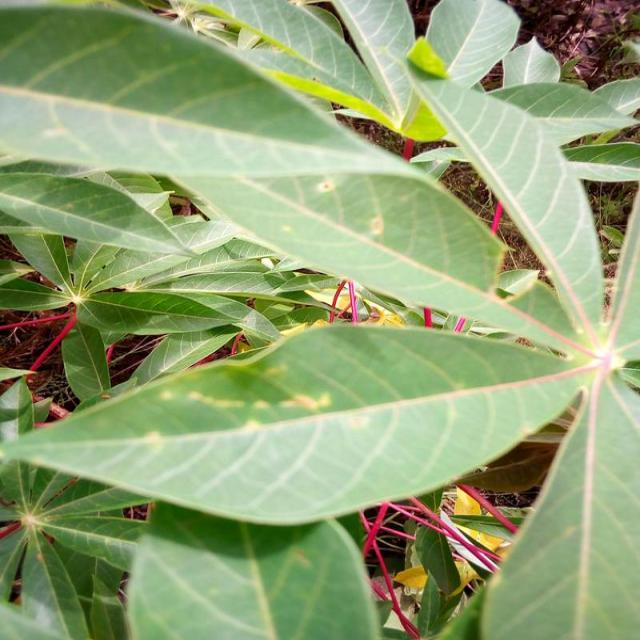cassava leaf: (0, 1, 638, 637), (0, 0, 510, 326), (1, 320, 586, 527)
